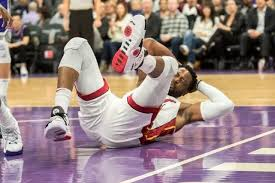10+: (1, 1, 275, 164)
down: (43, 28, 232, 145)
